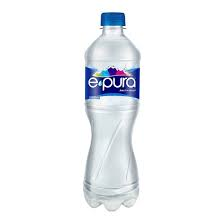Botella: (84, 13, 139, 210)
